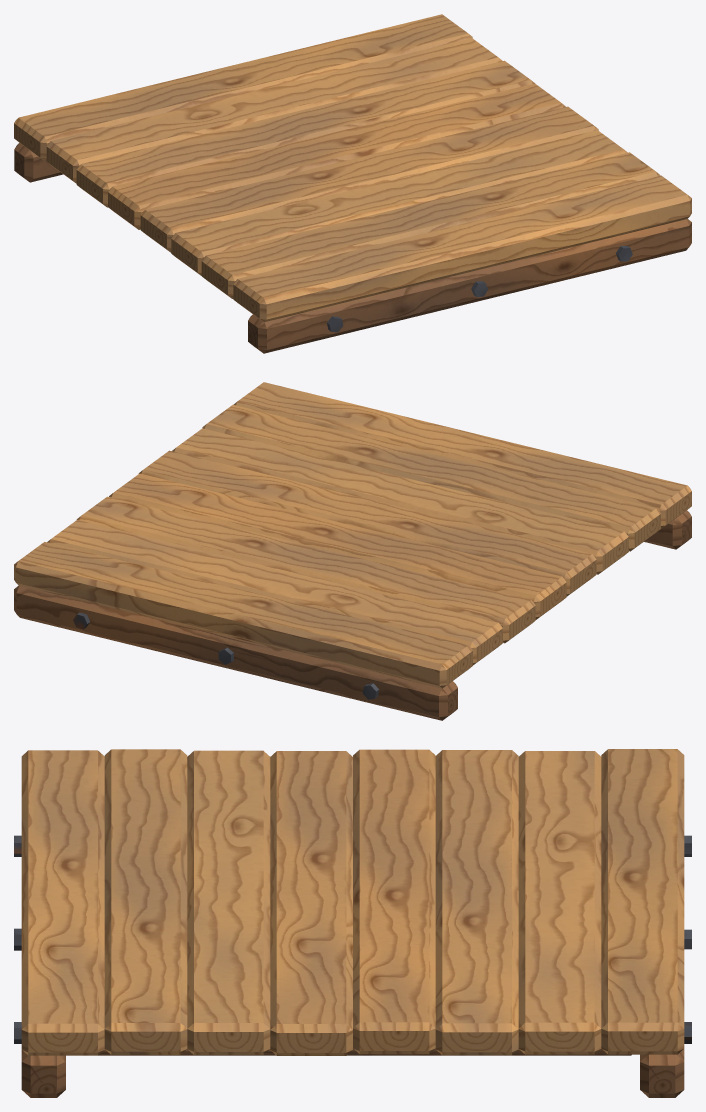
File: kare_zemin.glb
The picture shows the model from 3 angles, top to bottom: view 1: azimuth 30°, elevation 25°; view 2: azimuth 150°, elevation 25°; view 3: azimuth 270°, elevation 25°; orthographic projection. The views are drawn at different scales.
Visible parts, largest first — view 1: kare_zemin; view 2: kare_zemin; view 3: kare_zemin.
Boxes of the visible parts, bbox=[...] form: kare_zemin: bbox=[14, 14, 691, 353]; kare_zemin: bbox=[14, 382, 691, 720]; kare_zemin: bbox=[14, 749, 691, 1097].
Bounding box in the file's own units: 3 × 0.3783 × 3.07.
Materials: 1 (1 with a texture image).
